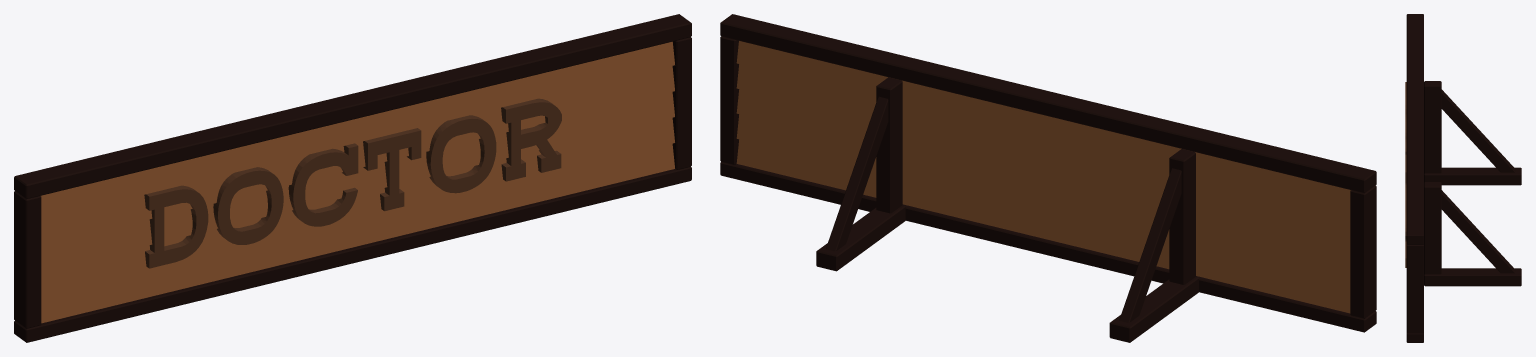
Rendered from ww_doctor_sign_a.glb.
3 renders of one model, left to right at view 1: azimuth 30°, elevation 25°; view 2: azimuth 150°, elevation 25°; view 3: azimuth 270°, elevation 25°, orthographic. The views are drawn at different scales.
Parts seen in each view (by area): view 1: Doctor_Sign_A; view 2: Doctor_Sign_A; view 3: Doctor_Sign_A.
Boxes of the visible parts, left/top/right/bottom form: Doctor_Sign_A: left=14, top=14, right=691, bottom=342; Doctor_Sign_A: left=720, top=14, right=1376, bottom=342; Doctor_Sign_A: left=1405, top=14, right=1521, bottom=342.
Bounding box in the file's own units: 10.56 × 2.4 × 2.34.
